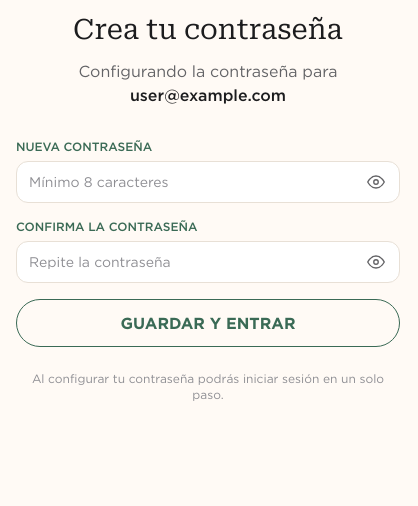
Scenario: generic submit error (line 109) › shows generic error message for unknown errors
The image size is (418, 506).
Type "Password1!" into the password field labelled "Nueva contraseña" at [208, 182], box [16, 161, 400, 203]
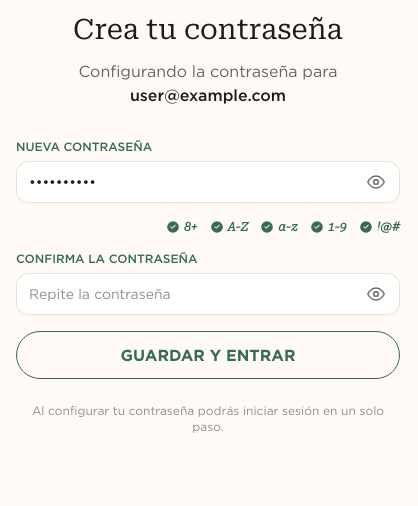
Type "Password1!" into the password field labelled "Confirma la contraseña" at [208, 294], box [16, 273, 400, 315]
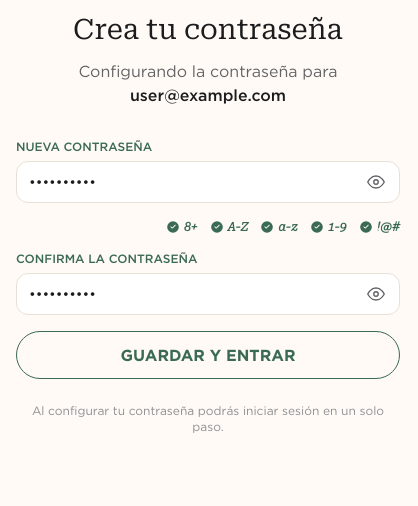
Submit the form, box [16, 139, 400, 379]
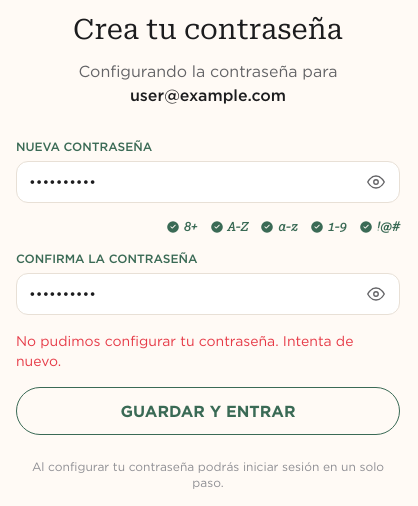
Now the text "No pudimos configurar tu contraseña. Intenta de nuevo." is shown, box [16, 331, 400, 371]
